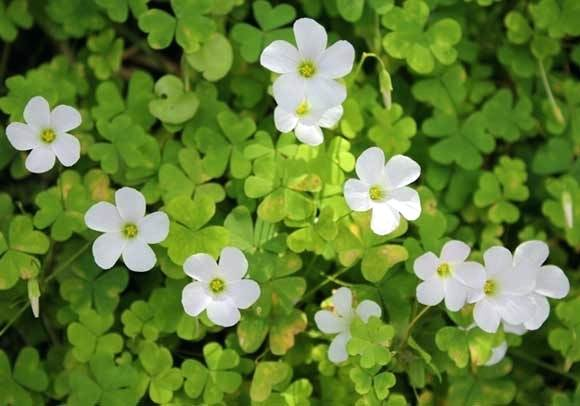oxalis: (386, 23, 580, 227), (89, 20, 284, 212), (276, 263, 452, 403), (16, 287, 204, 406)
